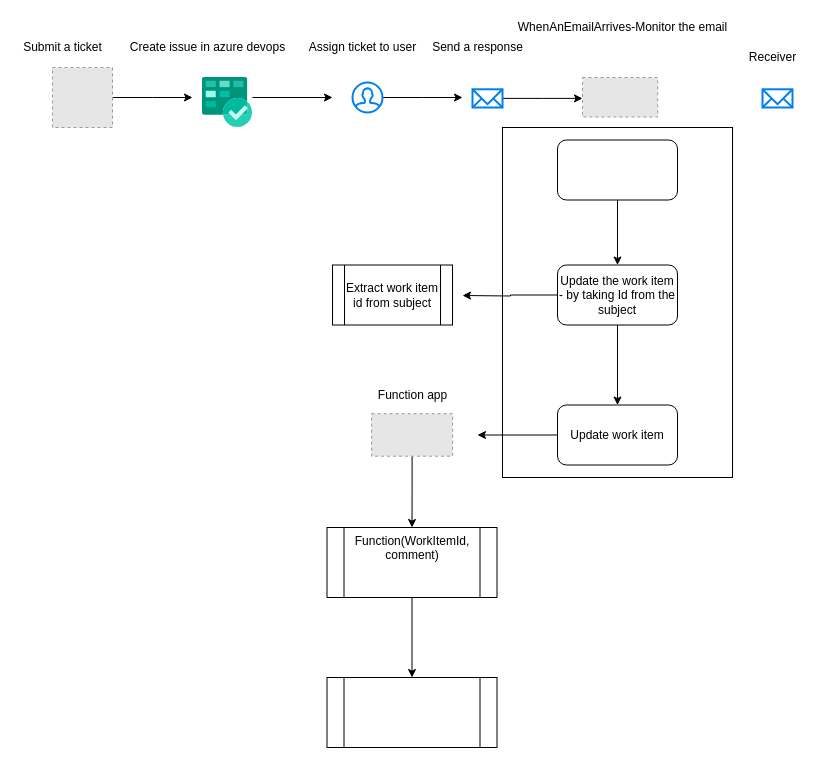
The diagram is 819 pixels wide and 765 high, and some of its shapes have lost their labels. Grey dashed boxes stand in for pictures. Here are the shapes that lost their labels. From the top down, the centre of each, then its label:
At pixel 617 169: "Analyze email -Subject with WorkItem-Id -Body".
At pixel 411 712: "Create a comment & Link the comment to work item".
